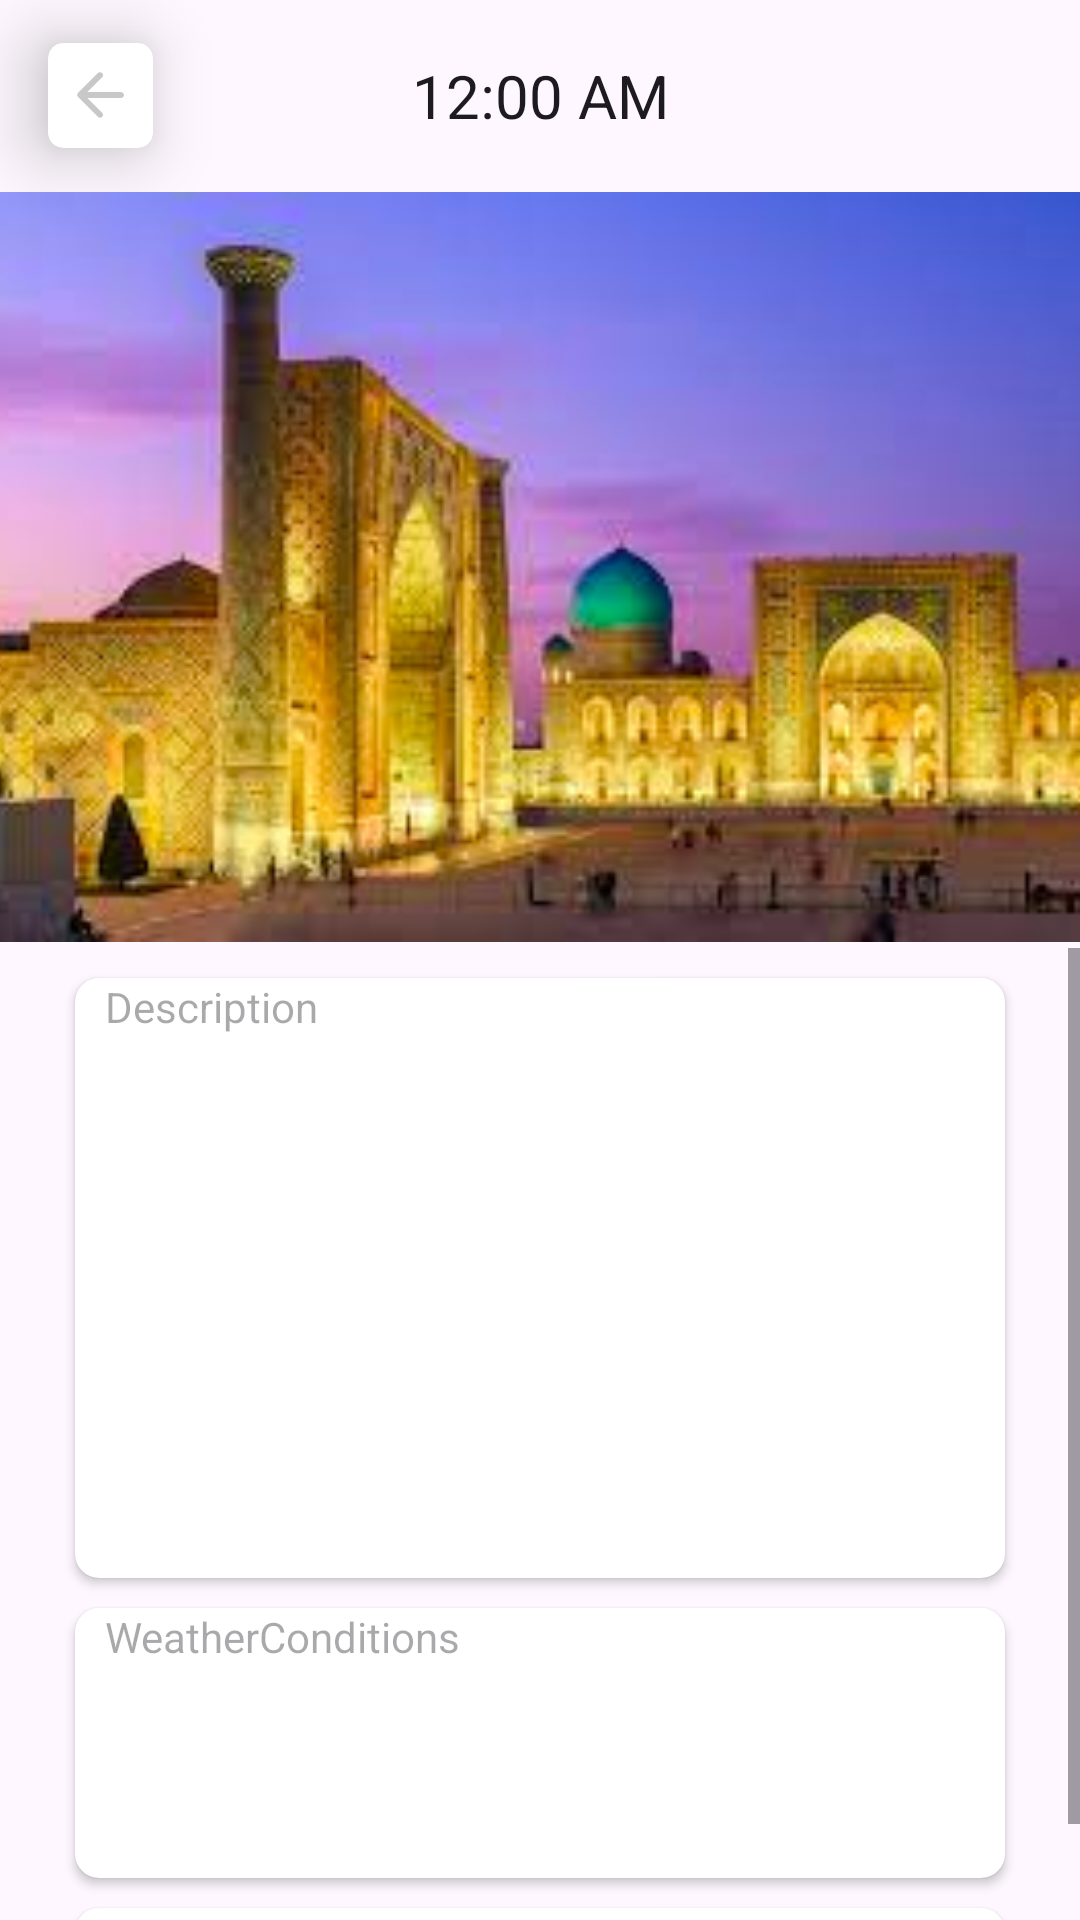

Where to tap for icons on this 1080x1920 app screen, as point (x, y):
back: point (100, 95)
